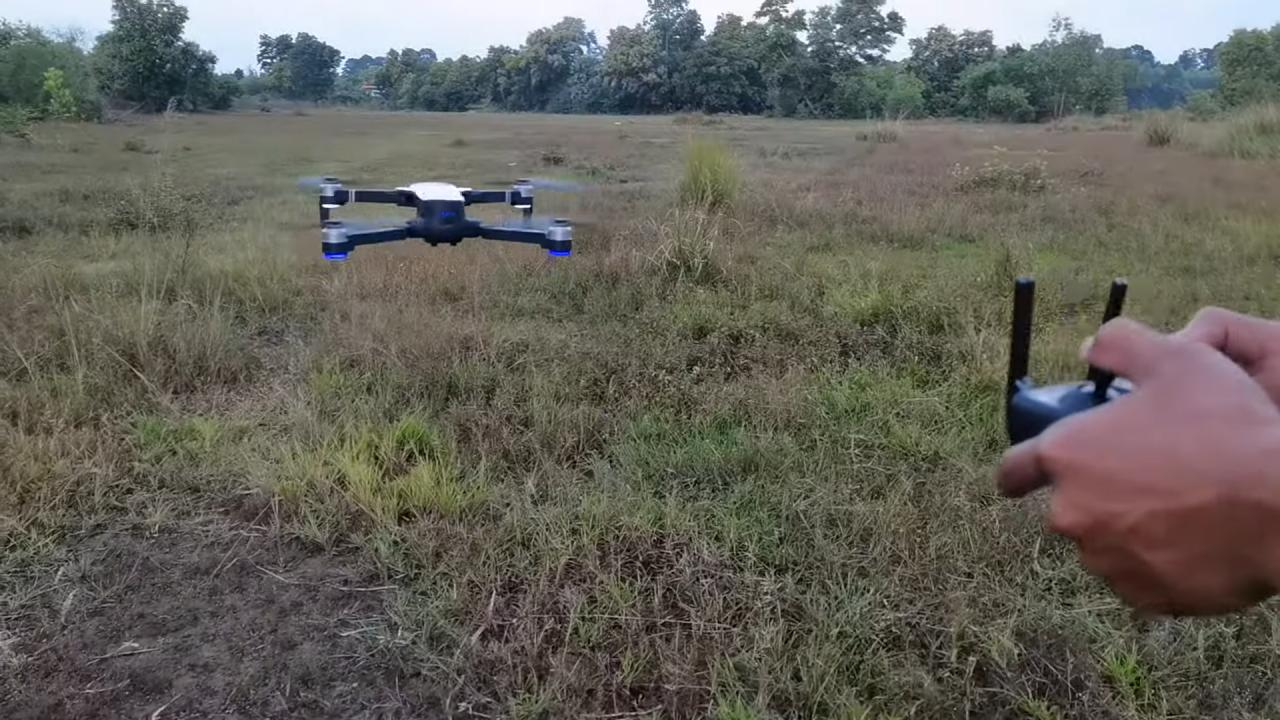Drone: (285, 158, 609, 274)
